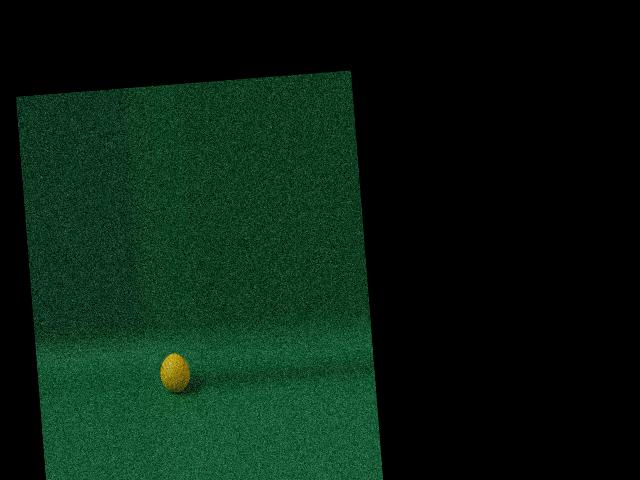egg: (158, 352, 190, 393)
